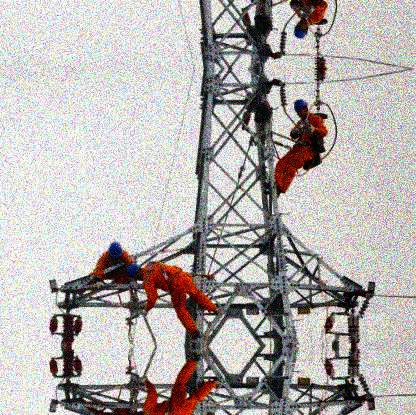helmet: (294, 19, 309, 39), (294, 101, 309, 120), (128, 263, 143, 278)
